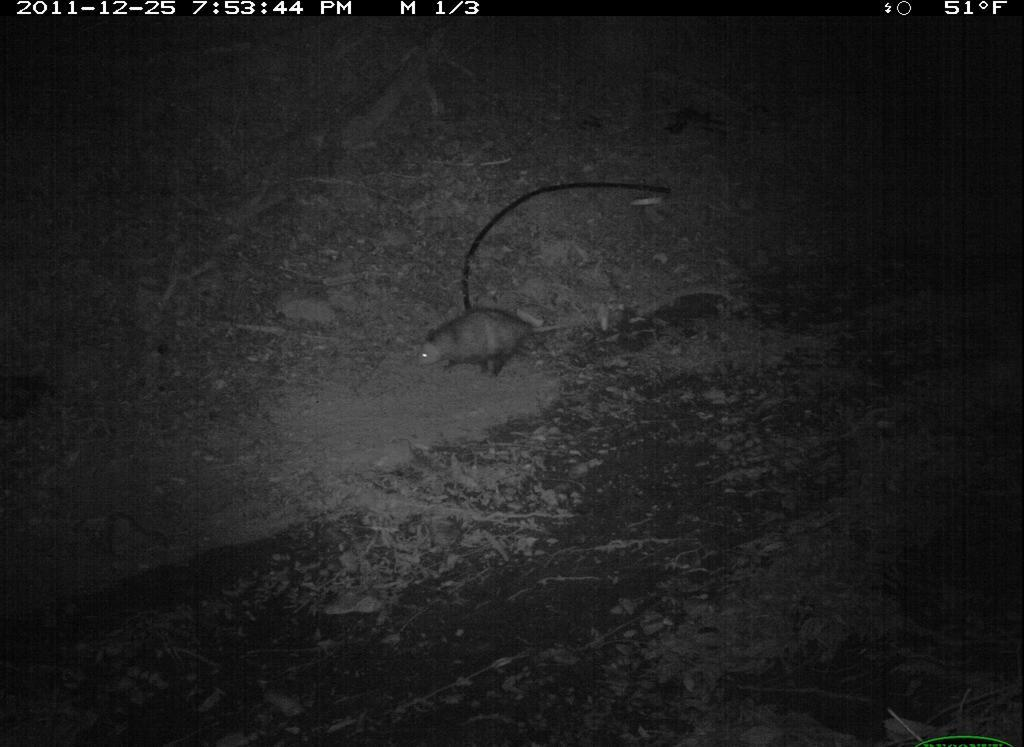opossum: (408, 305, 596, 383)
